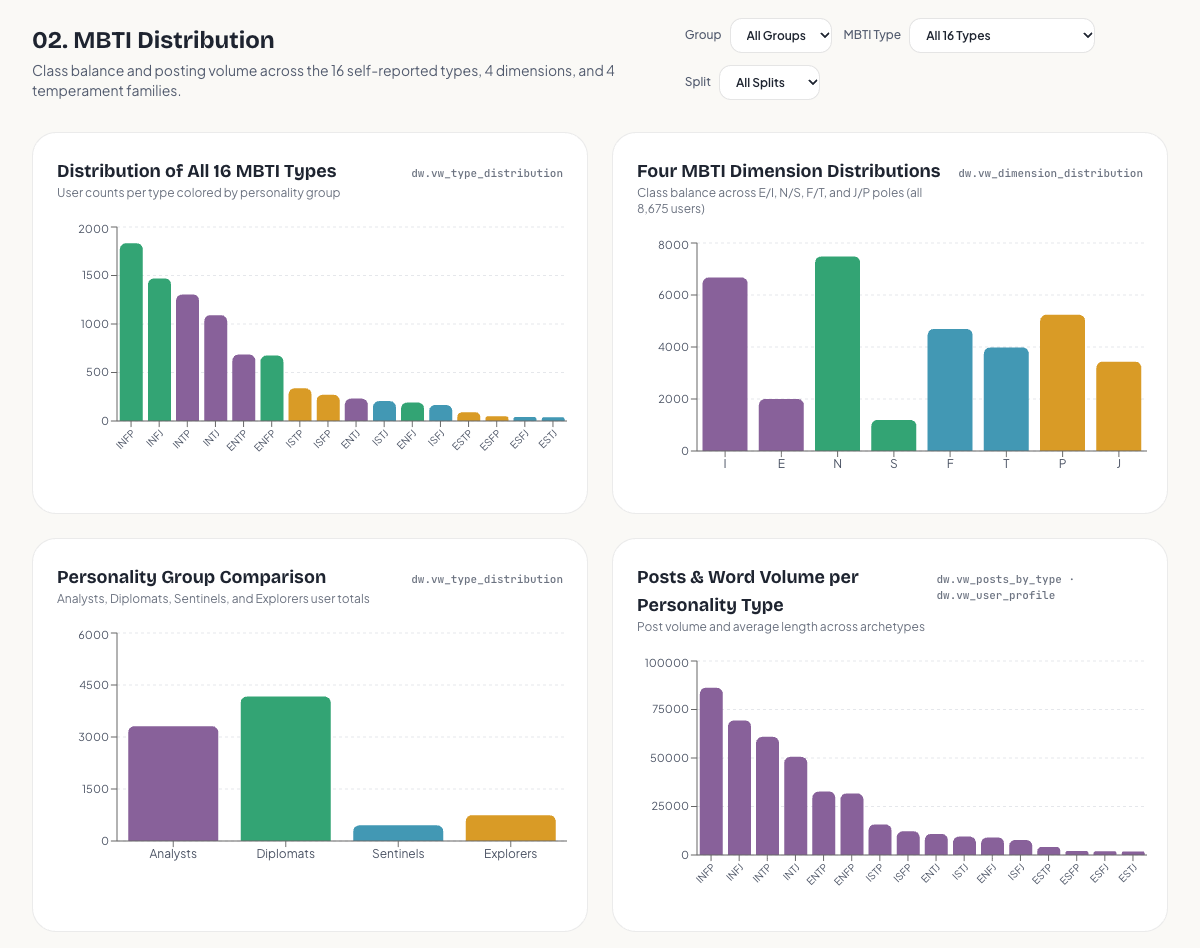

Layout of this report page (visuals, bound fields, positions):
{"tool":"powerbi","page":{"name":"Veri Profili","canvas":[1920,1080],"ordinal":0},"visuals":[{"type":"cardVisual","fields":{"Data":["Split.Toplam Kullanici"]},"box":[10,0,280,280],"z":0},{"type":"clusteredColumnChart","fields":{"Category":["dw vw_type_distribution.type_code"],"Y":["Sum(dw vw_type_distribution.users)"]},"box":[310.8,0,1016.8,559.9],"z":1},{"type":"hundredPercentStackedBarChart","fields":{"Category":["dw vw_dimension_distribution.dimension"],"Series":["dw vw_dimension_distribution.letter"],"Y":["Sum(dw vw_dimension_distribution.pct)"]},"box":[1327.6,0,578.4,559.9],"z":2},{"type":"tableEx","fields":{"Values":["dw vw_posts_by_type.type_code","dw vw_posts_by_type.temperament","dw vw_posts_by_type.users","dw vw_posts_by_type.posts","dw vw_posts_by_type.posts_per_user","dw vw_posts_by_type.avg_words_per_post","dw vw_posts_by_type.words_per_user"]},"box":[10.3,559.9,1895.7,520.8],"z":3}]}

Visuals, with their boxes on the page's 1920x1080 design canvas (x1, y1, x2, y2). These are canvas units, not pixel positions in the 1200x948 screenshot, which may show the page scaled, cropped or inside an application window:
cardVisual - Split.Toplam Kullanici: rect(10, 0, 290, 280)
clusteredColumnChart - dw vw_type_distribution.type_code x Sum(dw vw_type_distribution.users): rect(311, 0, 1328, 560)
hundredPercentStackedBarChart - dw vw_dimension_distribution.dimension x dw vw_dimension_distribution.letter: rect(1328, 0, 1906, 560)
tableEx - dw vw_posts_by_type.type_code x dw vw_posts_by_type.temperament: rect(10, 560, 1906, 1081)
